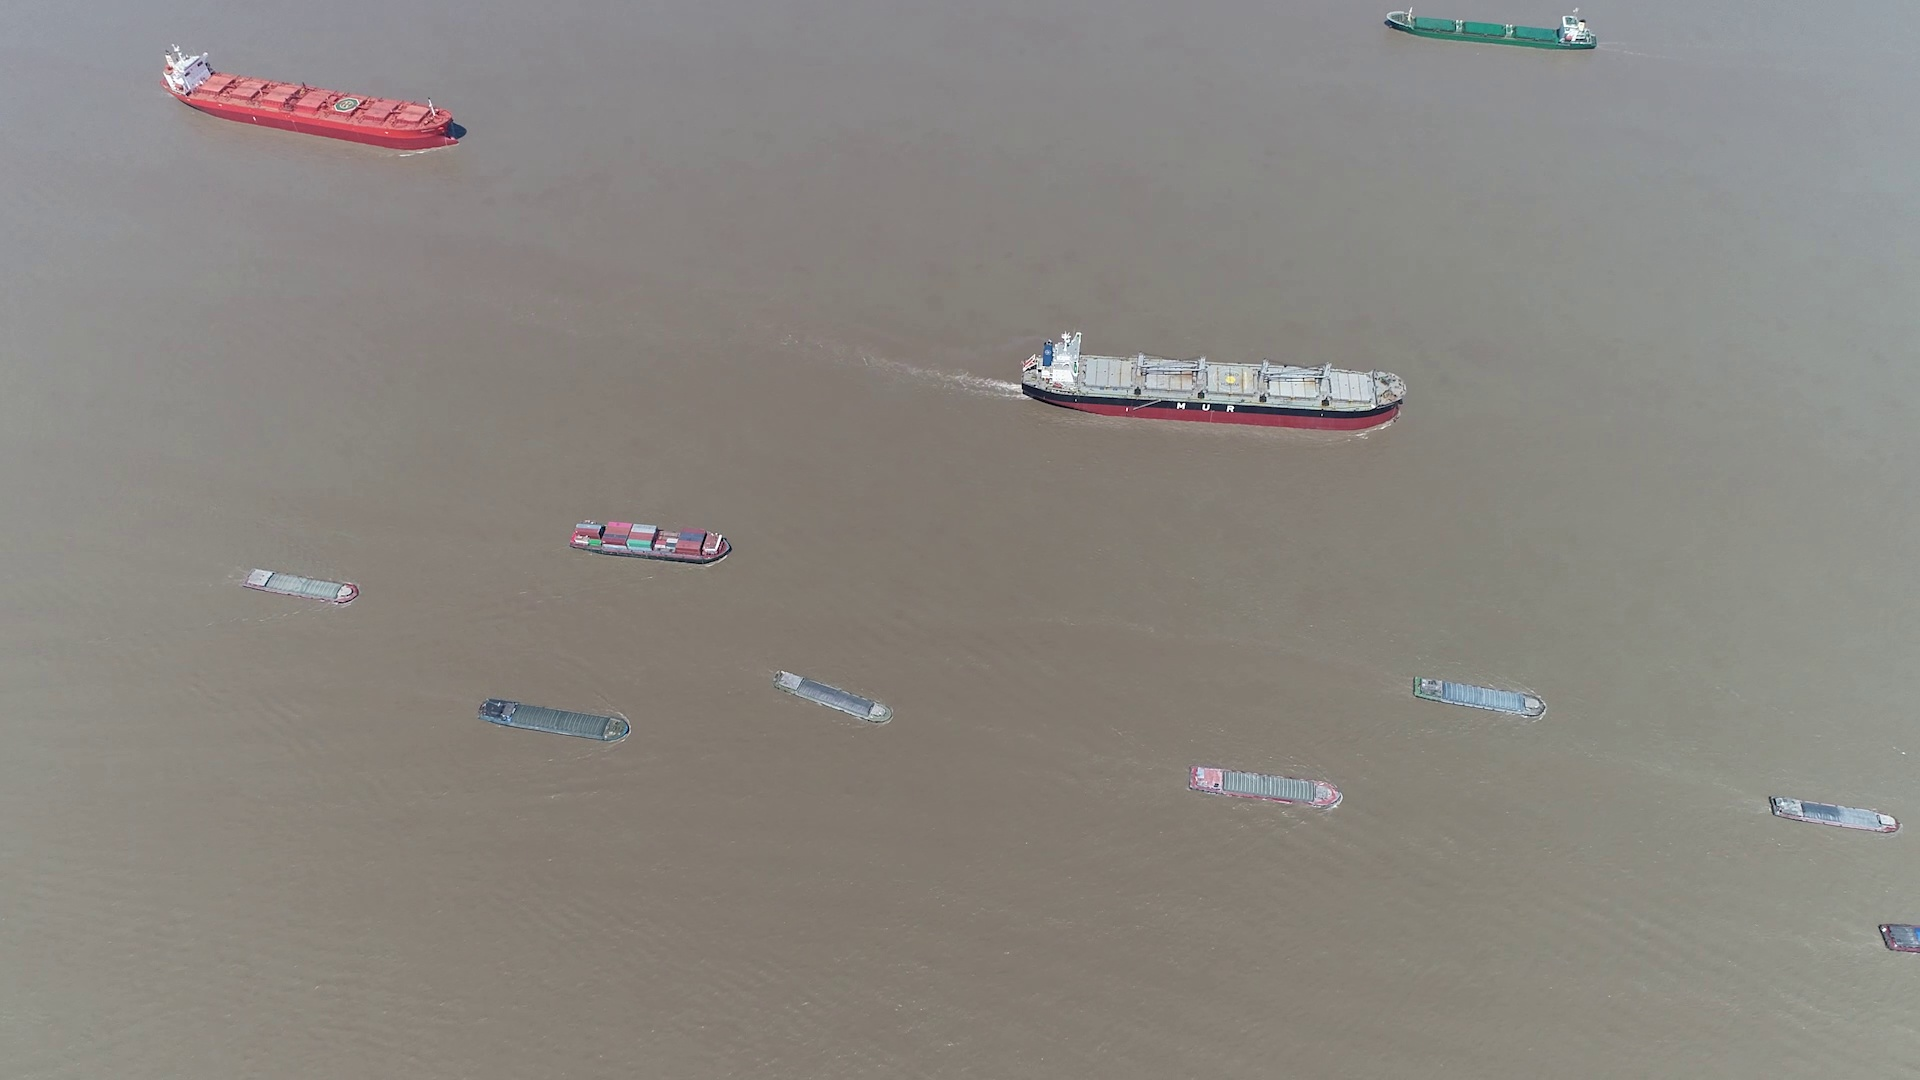ship: (1023, 334, 1408, 433), (160, 44, 462, 149), (1383, 11, 1596, 50), (571, 520, 735, 564), (480, 698, 632, 742), (1185, 767, 1342, 808), (775, 670, 891, 723), (1411, 676, 1547, 717), (1768, 795, 1900, 833), (243, 568, 360, 605), (1880, 922, 1920, 953)
